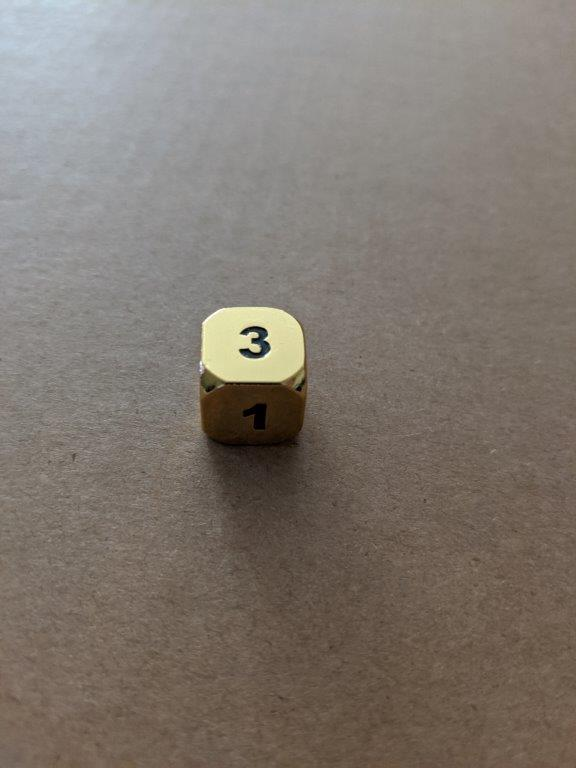d6-3: (197, 306, 311, 445)
